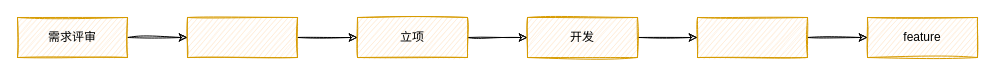
Some shapes in this 995 by 75 pixel diagram are drawn without their labels. Each missing label, with the centre of its shape:
"拆分任务" belongs at [752,37].
"预估工作量" belongs at [242,37].
